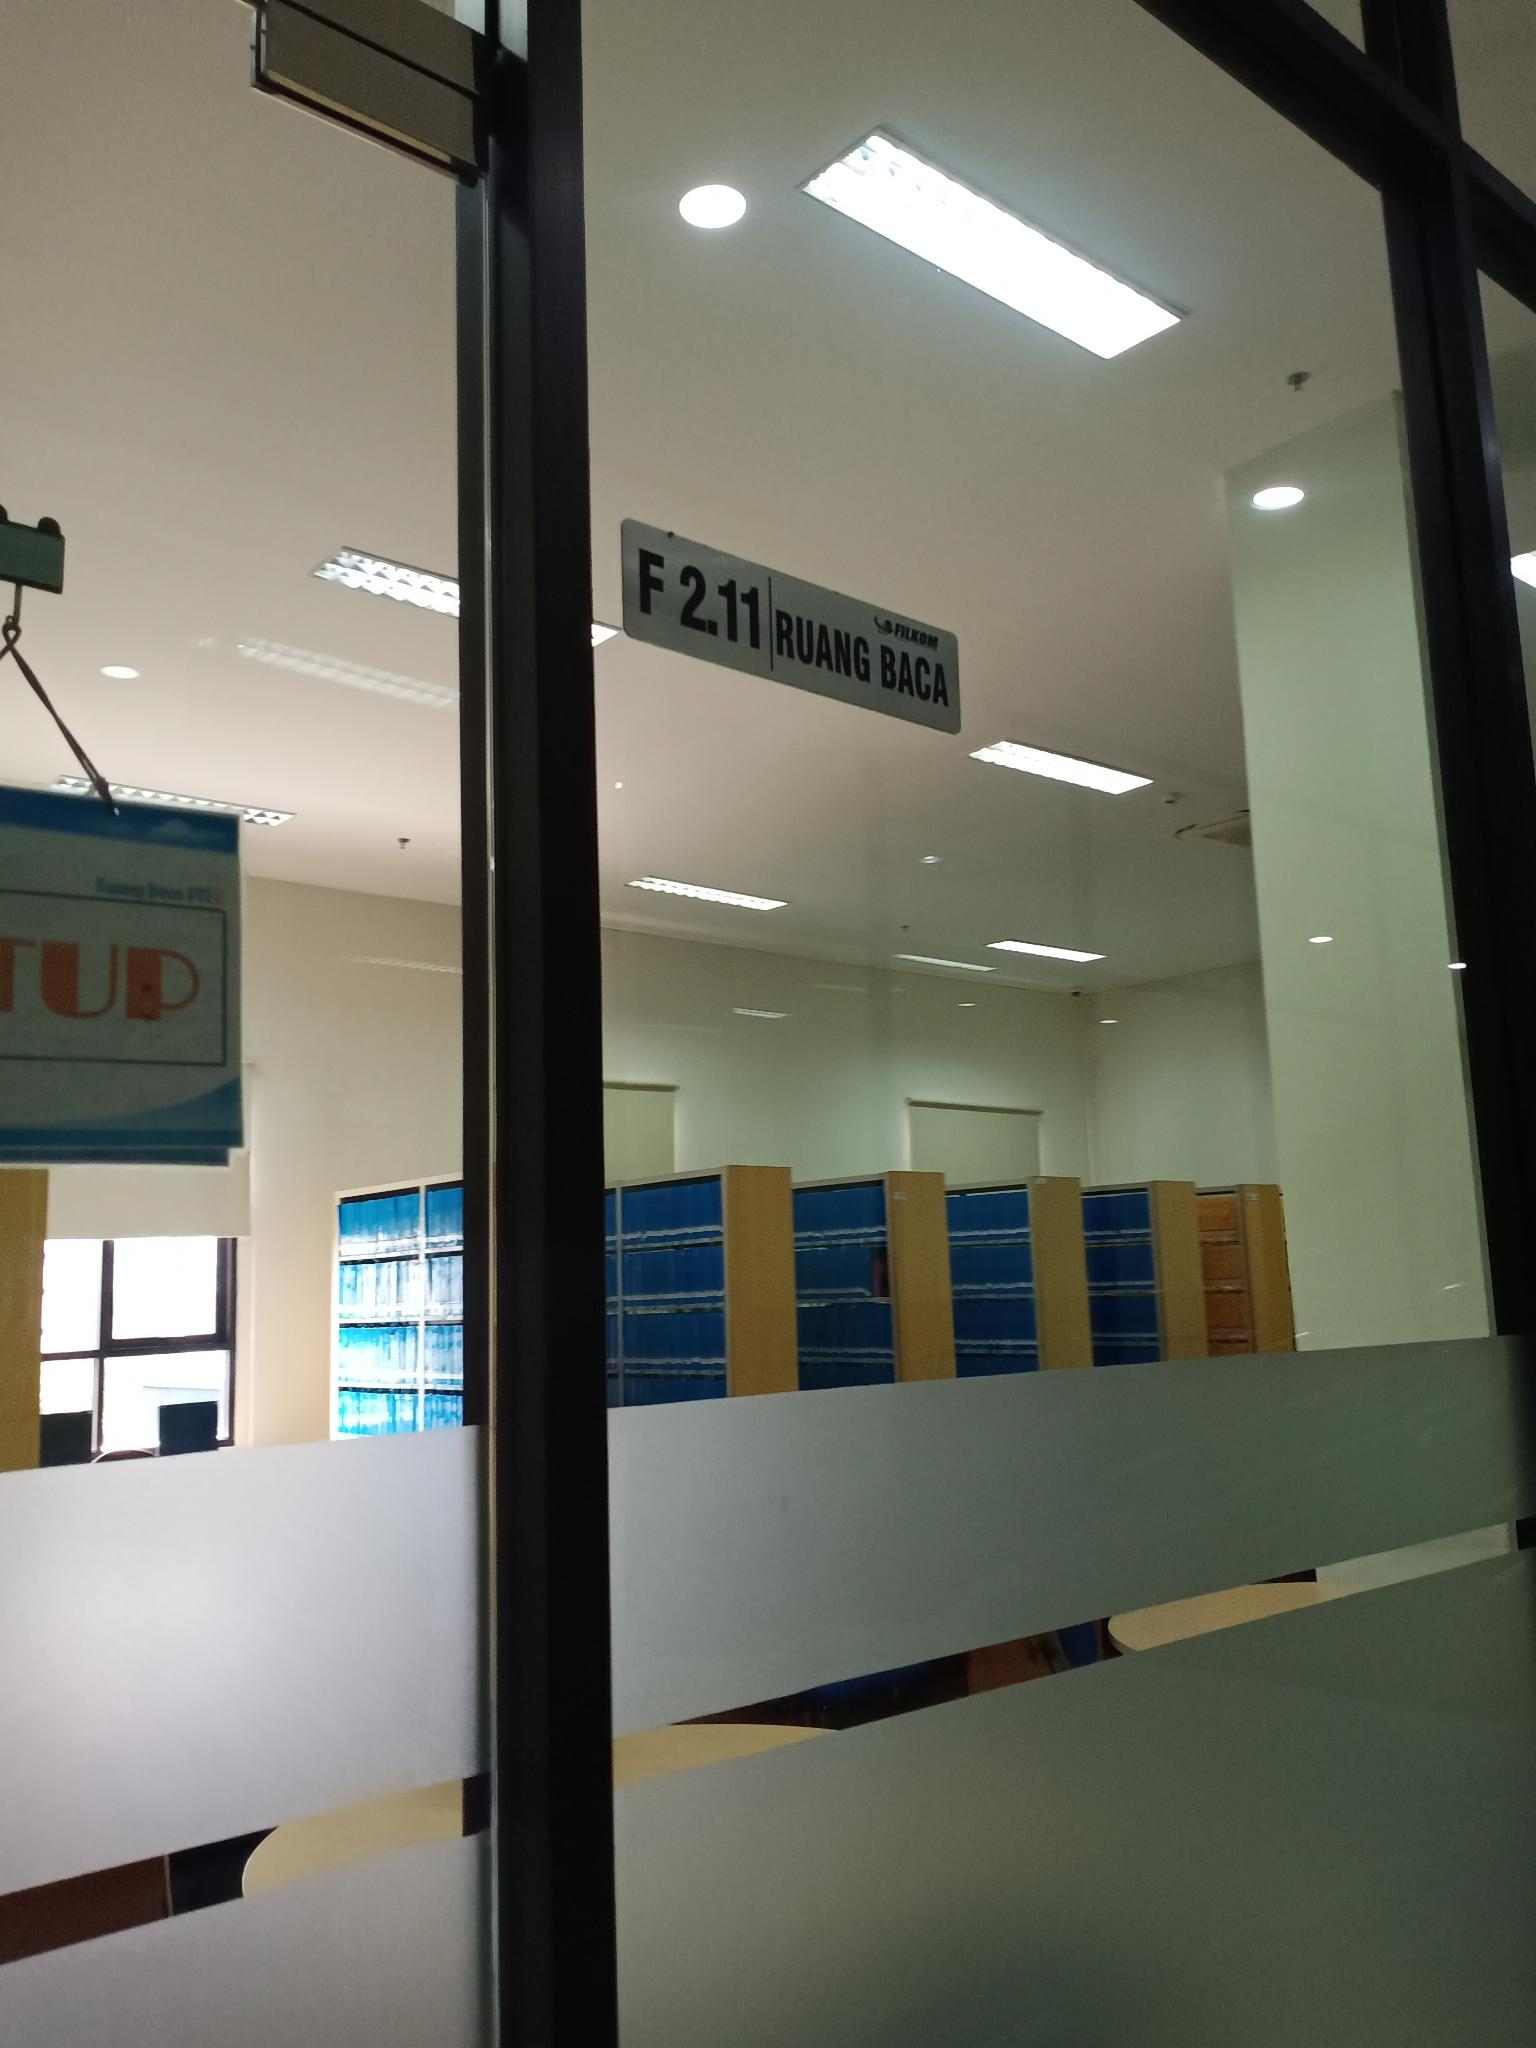plate: (620, 516, 965, 743)
